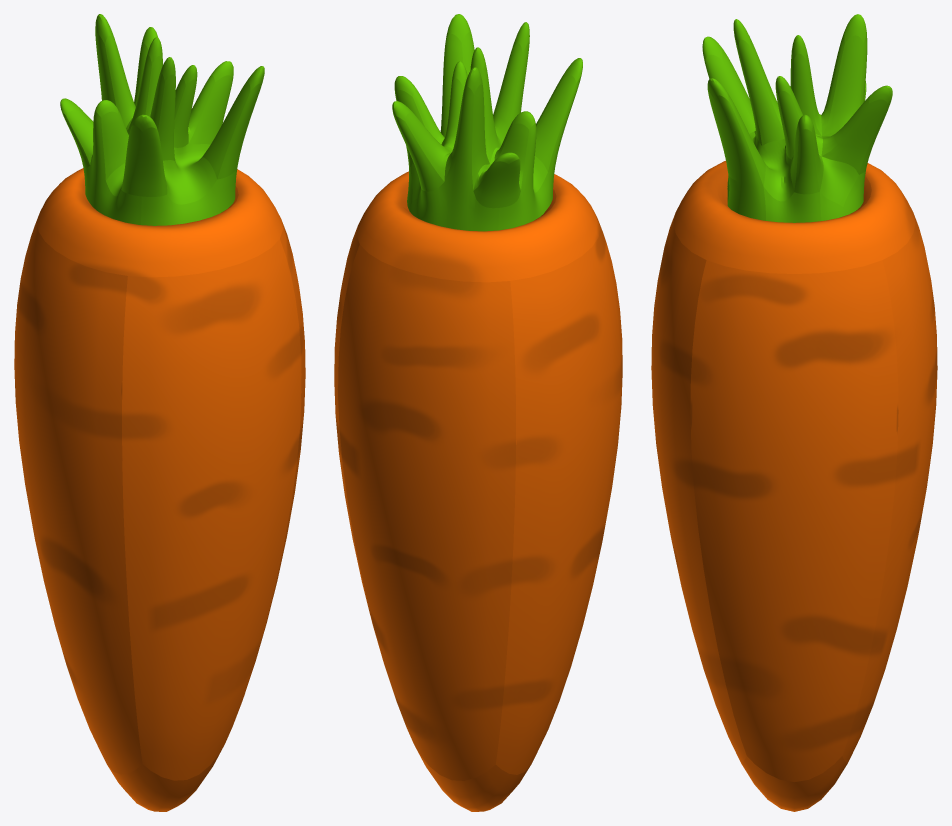
File: carrot.fbx
The picture shows the model from 3 angles, left to right: view 1: azimuth 30°, elevation 25°; view 2: azimuth 150°, elevation 25°; view 3: azimuth 270°, elevation 25°; orthographic projection.
Parts seen in each view (by area): view 1: Cube.001; view 2: Cube.001; view 3: Cube.001.
Part boxes in pixels (<box>): Cube.001: <box>14,14,305,811</box>; Cube.001: <box>334,14,622,811</box>; Cube.001: <box>651,14,937,811</box>.
Size of the model in its own units: 213 by 641 by 213.
Materials: 2 (1 with a texture image).
